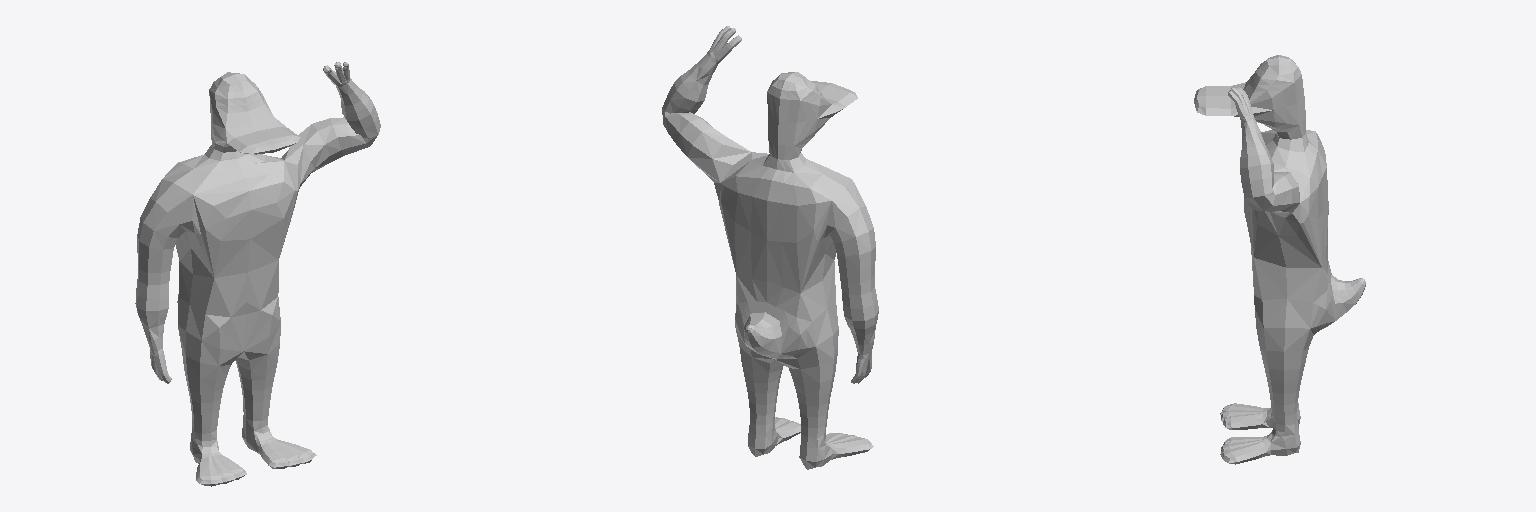
Rendered from canard_000008.obj.
The picture shows the model from 3 angles: view 1: azimuth 30°, elevation 25°; view 2: azimuth 150°, elevation 25°; view 3: azimuth 270°, elevation 25°; orthographic projection.
Parts seen in each view (by area): view 1: Cube; view 2: Cube; view 3: Cube.
Part boxes in pixels (x1,y1,x2,y2): Cube: (135, 62, 380, 486); Cube: (662, 26, 878, 469); Cube: (1194, 55, 1365, 464).
Size of the model in its own units: 1.73 by 2.87 by 1.14.